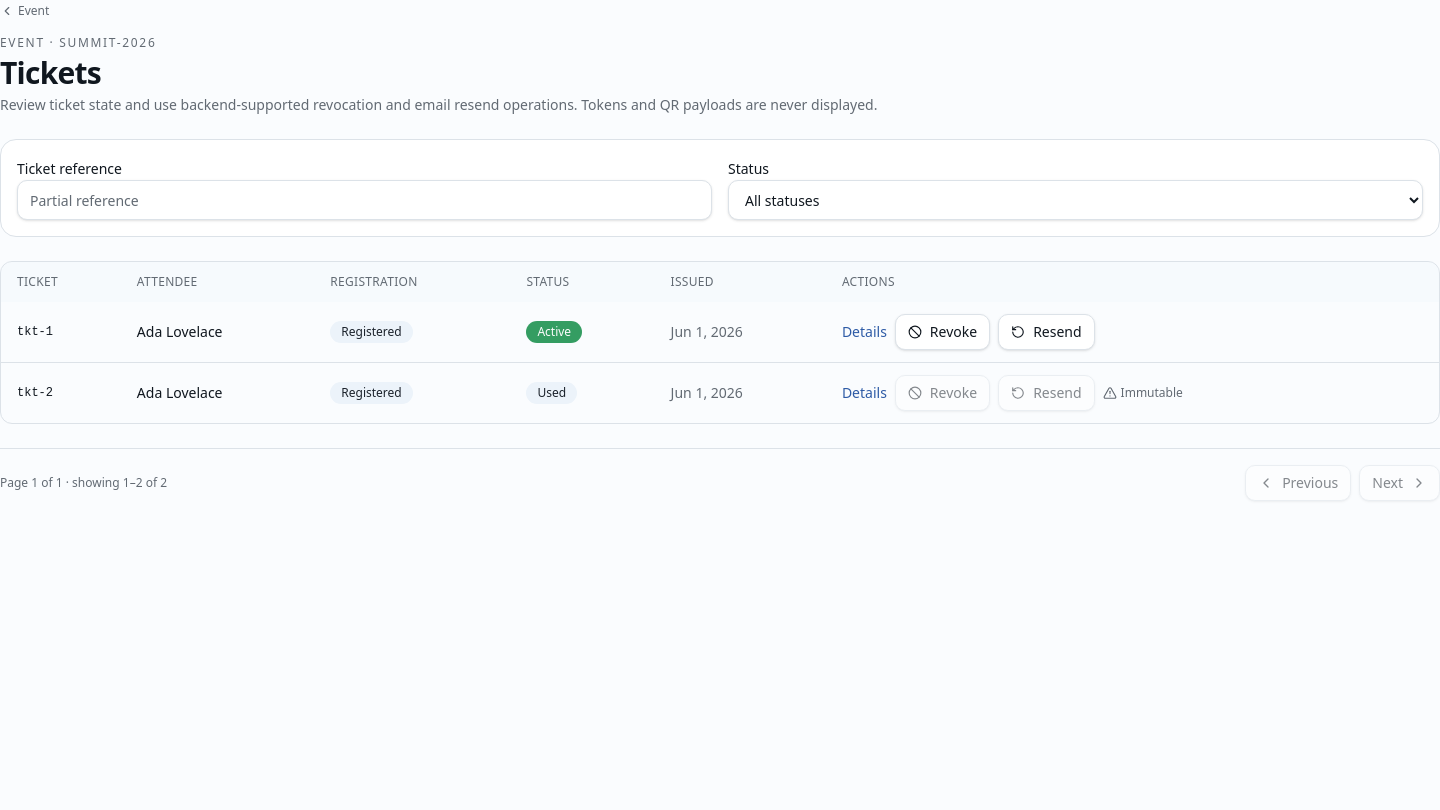
Scenario: ticket management › revokes a ticket after confirmation
Later steps or results of the test are not shown.
Expected: the text "tkt-1" is shown, [1,302,121,362]
Click the button "Revoke" in the row of "tkt-1" at coordinates (943, 332), box [895,314,990,350]
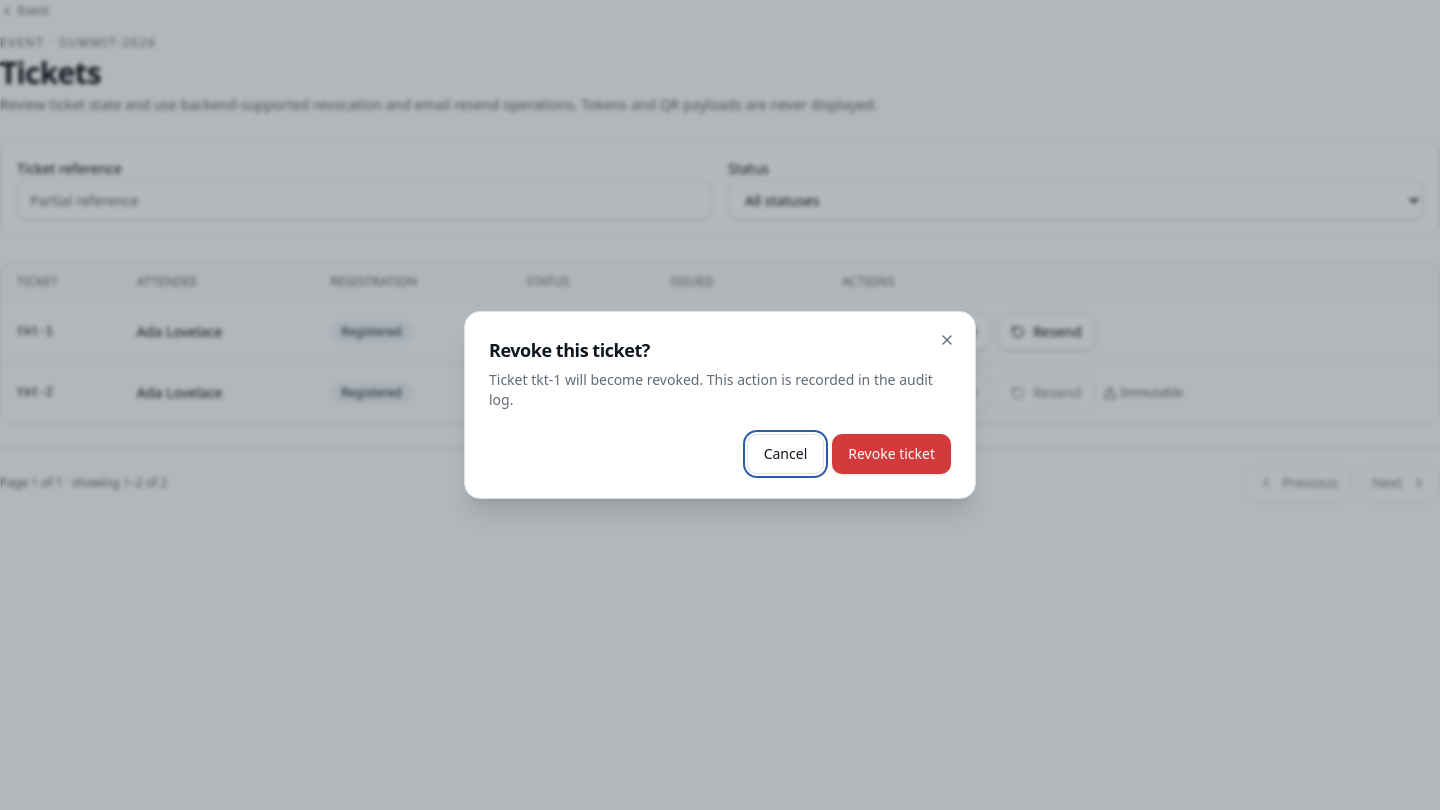
Now the text "will become revoked. This action is recorded" is shown, box [489,370,933,409]
